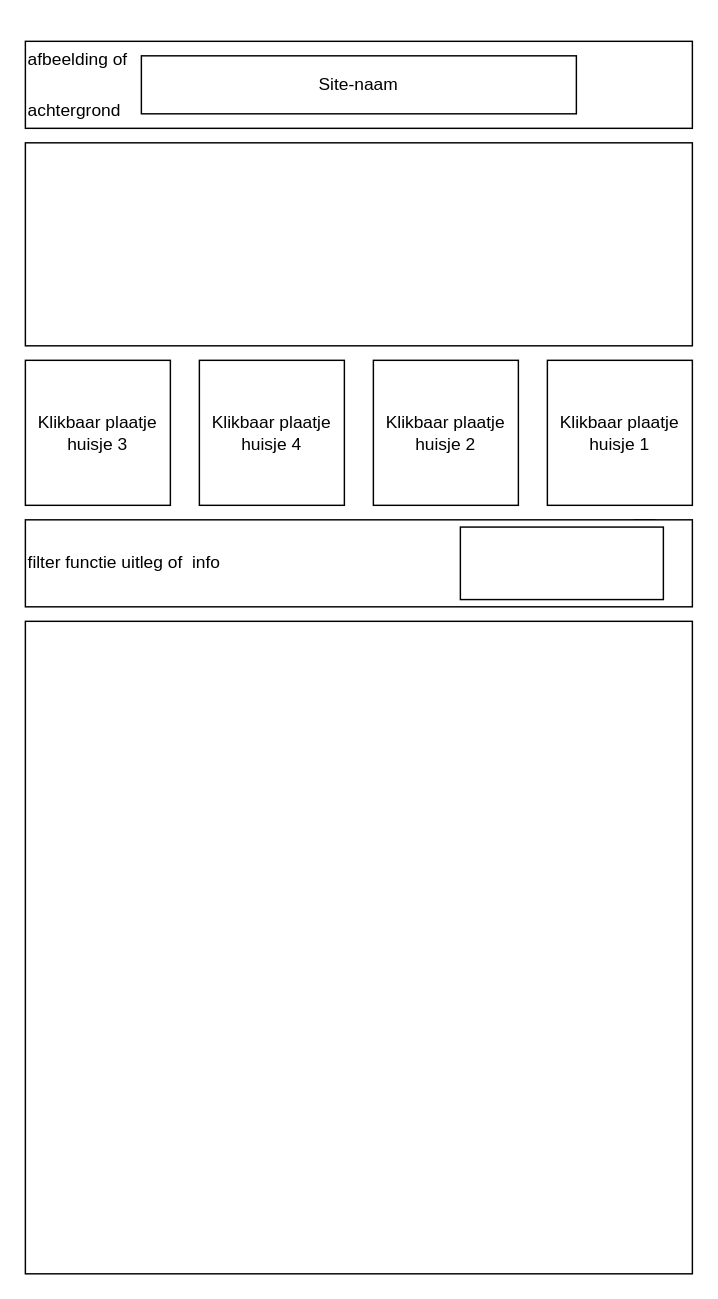
Image size: 718x1299. Some labels were removed from this diagram. Each missing label, with the centre of its shape:
filter: (x=561, y=563)
kaart nederland met locatie huisen erop: (x=358, y=947)
tekst.m4p: (x=358, y=243)
